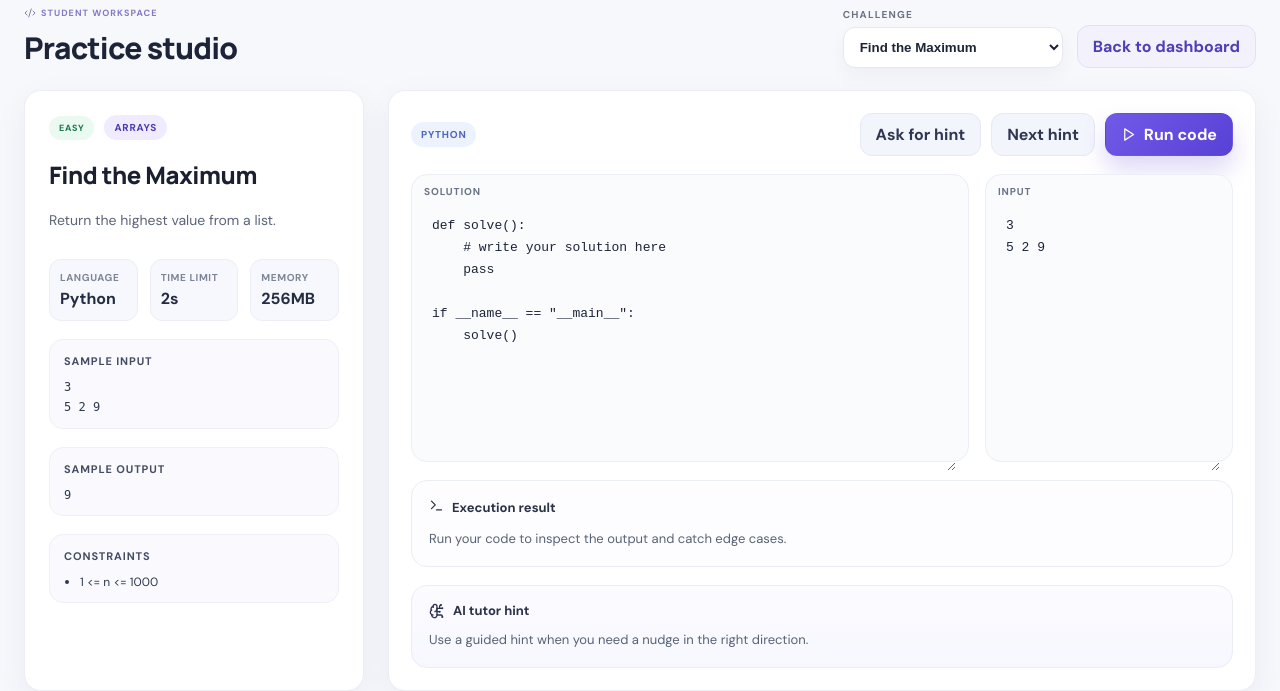
Test: student dashboard › opens the protected coding workspace and runs a challenge
Expected: the heading "Practice studio" is shown, 24,27 -> 237,68
Expected: the heading "Find the Maximum" is shown, 49,158 -> 257,191
What coordinates should you click on to do the following:
click the button "Run code"
I would click on:
 (1169, 134)
Its box is 1105,113 -> 1233,156.
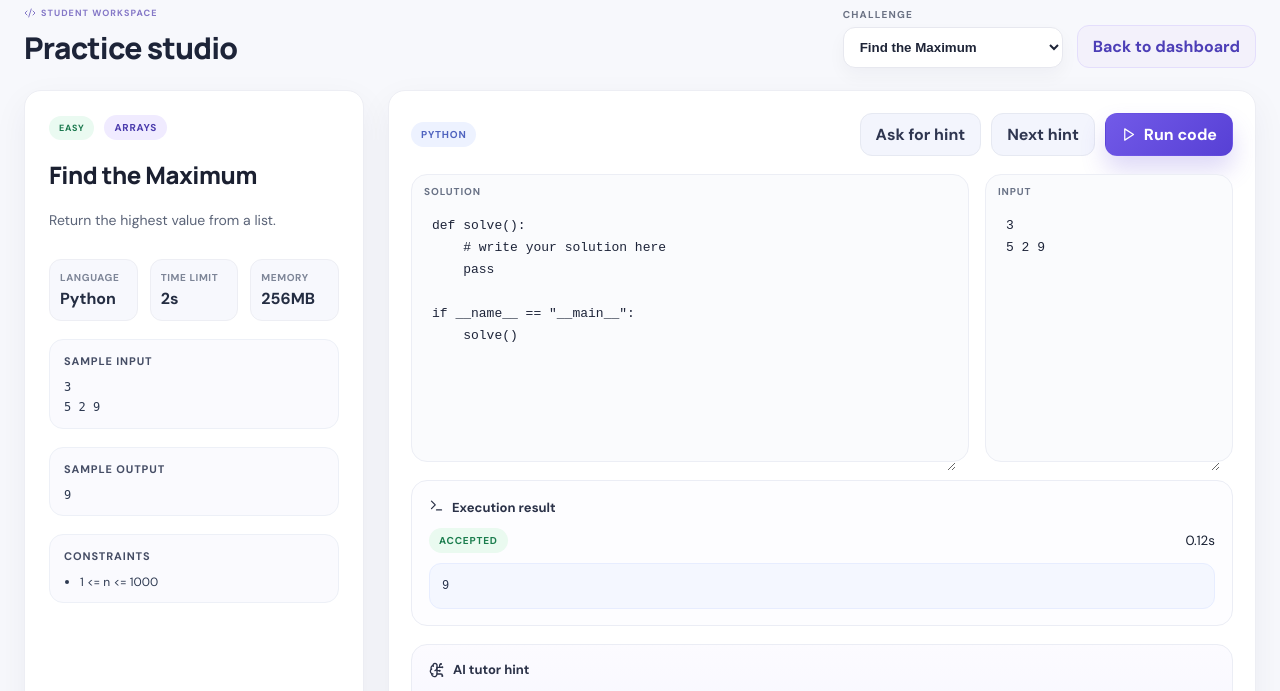
Now the text "accepted" is shown, box 429,528 -> 508,553
What coordinates should you click on to do the following:
click the button "Ask for hint"
I would click on:
 (920, 134)
Its box is 860,113 -> 981,156.
(page scrolled)
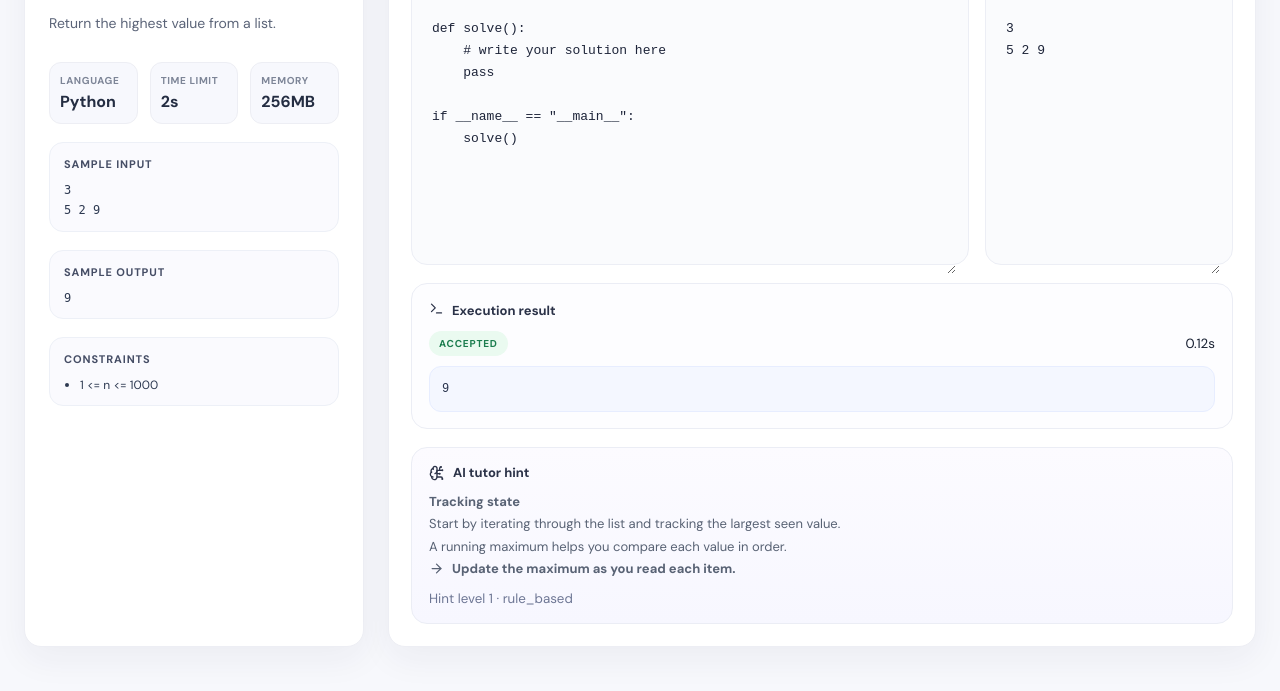
Now the text "Tracking state" is shown, box 429,493 -> 520,510
